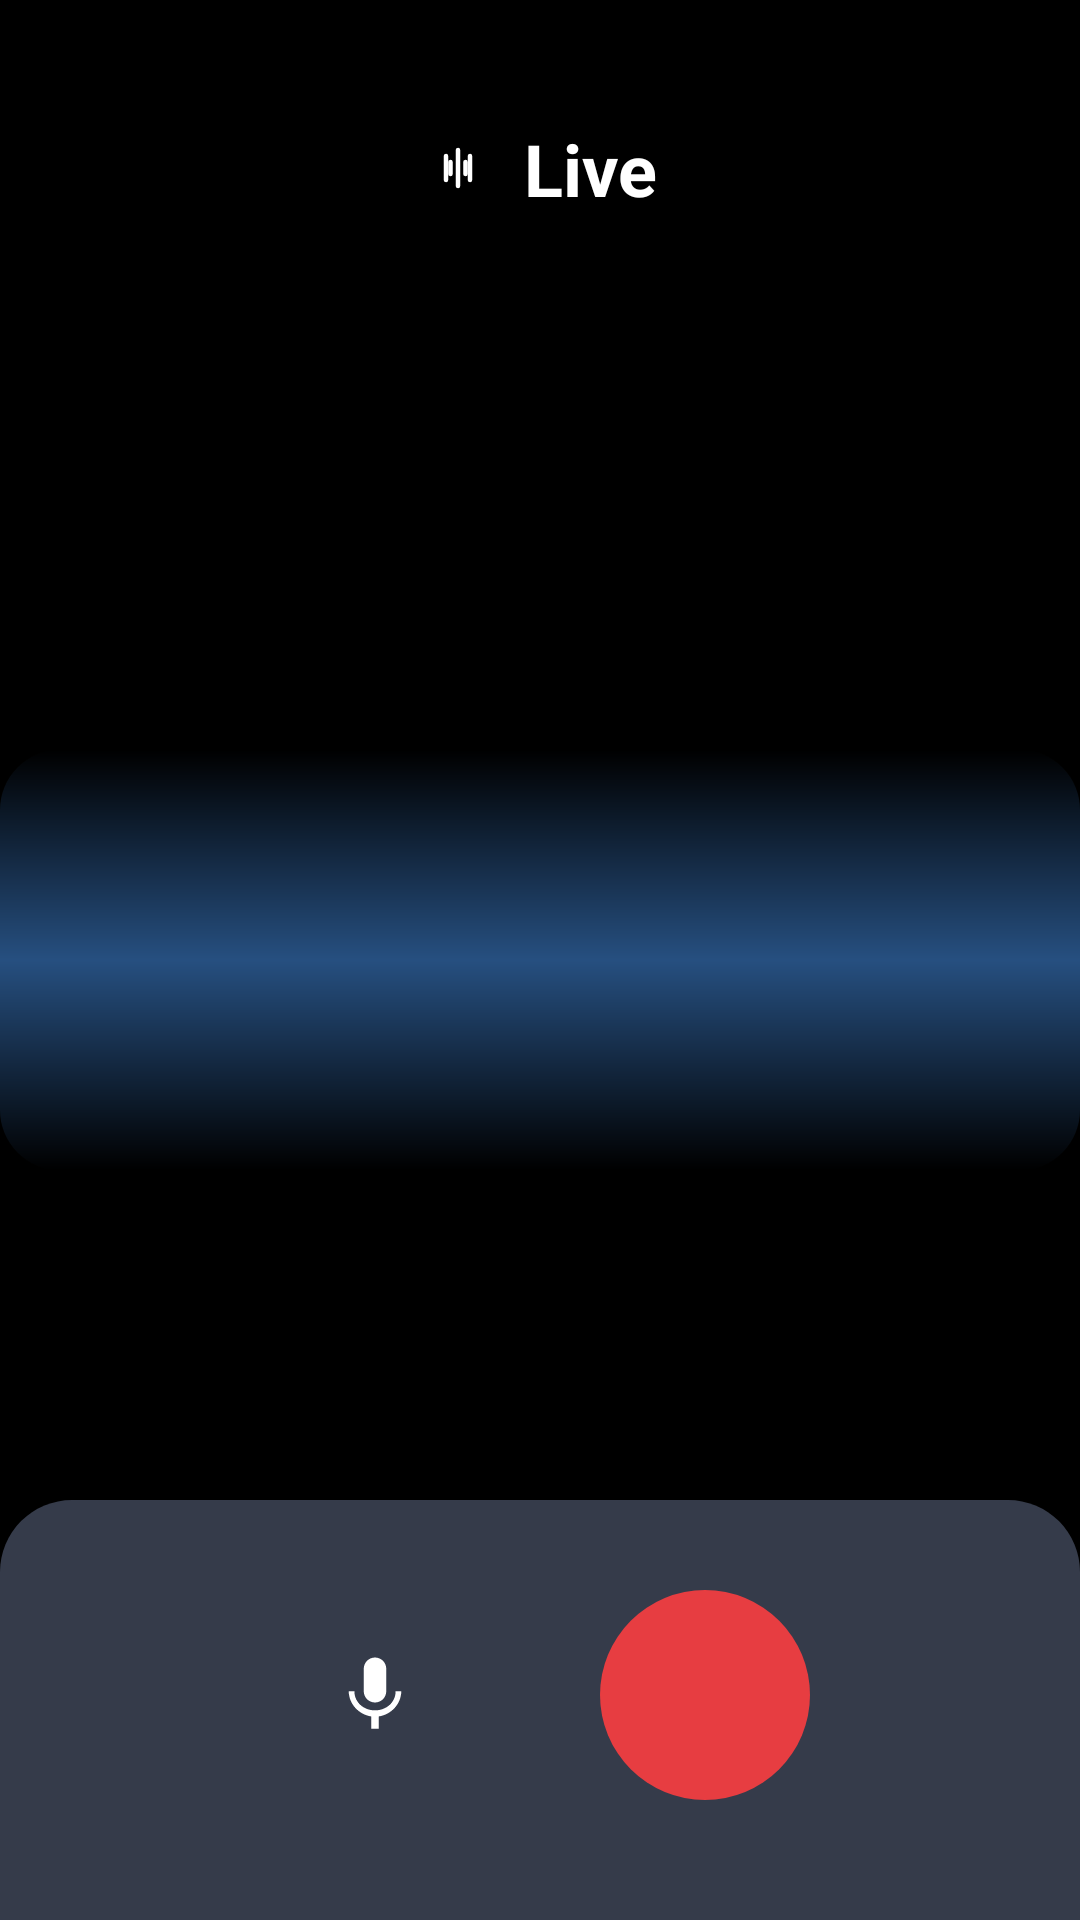

Screen size 1080px x 1920px. Icon name, then its center in pixels as [x,y]:
Microphone: [375,1693]
